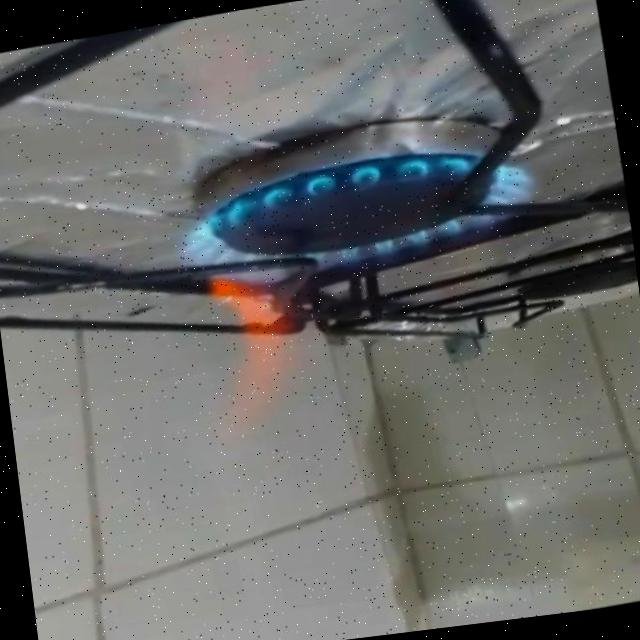fire: (151, 124, 573, 448)
